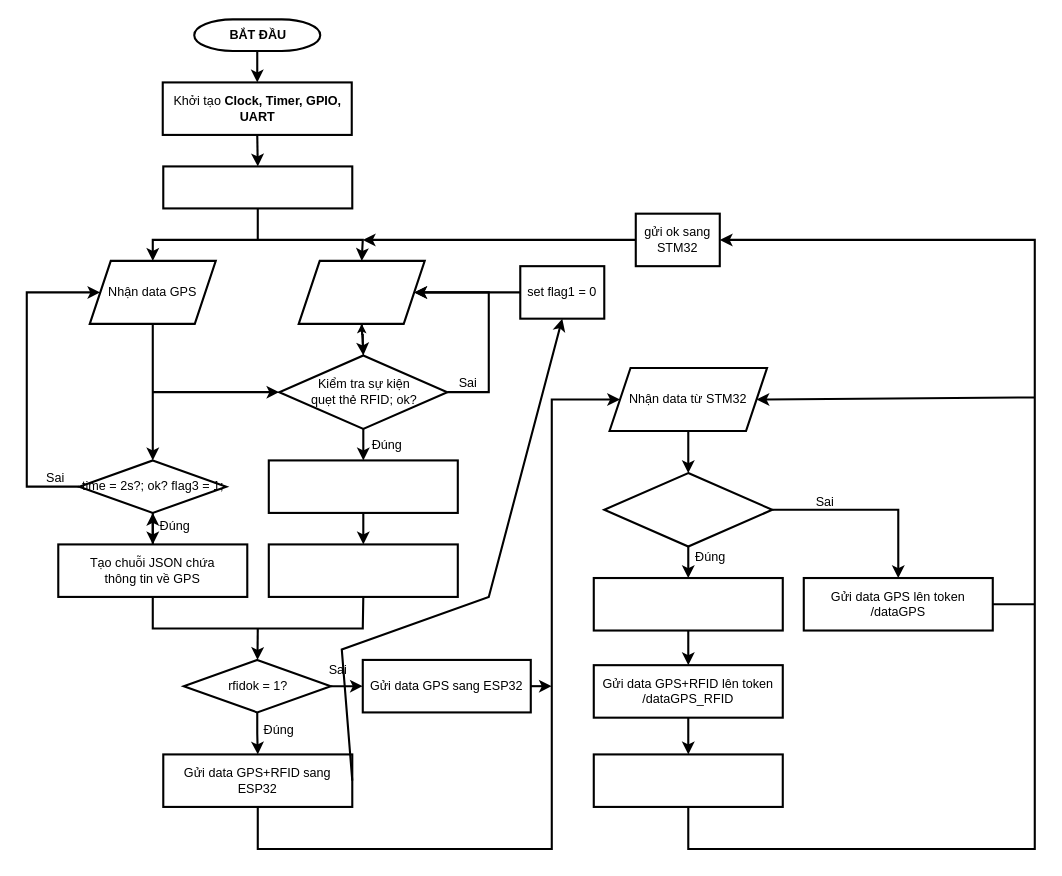
The diagram is 1062 pixels wide and 876 high, and some of its shapes have lost their labels. Each missing label, with the centre of its shape:
"Chụp ảnh, mã hóa ảnh thành dạng base64" belongs at [687,603].
"data GPS+RFID?" belongs at [688,509].
"Gửi data ảnh lên token /image" belongs at [687,780].
"Nháy led 2s chờ ổn định nguồn, set flag1 = 0;" belongs at [257,187].
"Nhận data RFID" belongs at [361,291].
"Set LED BUSY = 1; rfidok = 1;" belongs at [362,486].
"Tạo chuỗi JSON chứa thông tin về GPS và RFID" belongs at [362,570].
